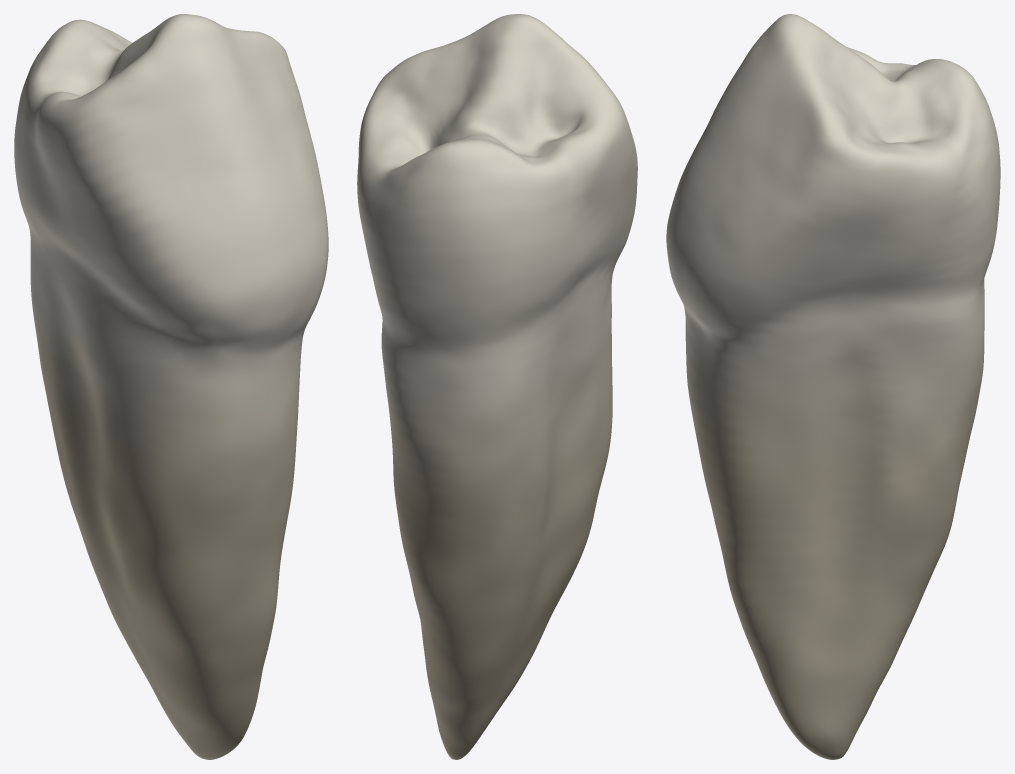
3 renders of one model, left to right at view 1: azimuth 30°, elevation 25°; view 2: azimuth 150°, elevation 25°; view 3: azimuth 270°, elevation 25°, orthographic. The views are drawn at different scales.
Parts seen in each view (by area): view 1: Tooth_34_0; view 2: Tooth_34_0; view 3: Tooth_34_0.
Boxes of the visible parts, x1=… form: Tooth_34_0: x1=14, y1=14, x2=328, y2=759; Tooth_34_0: x1=357, y1=14, x2=637, y2=759; Tooth_34_0: x1=666, y1=14, x2=1000, y2=759.
Size of the model in its own units: 0.9 by 2.72 by 1.14.
